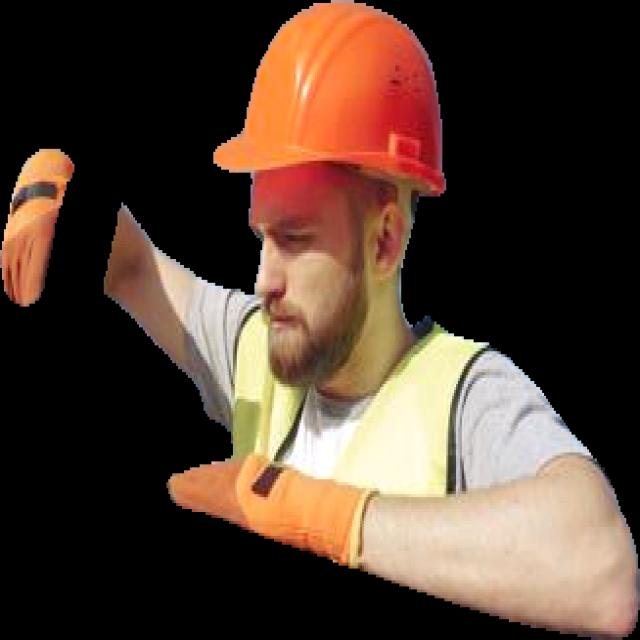Pessoa: (104, 0, 639, 639)
